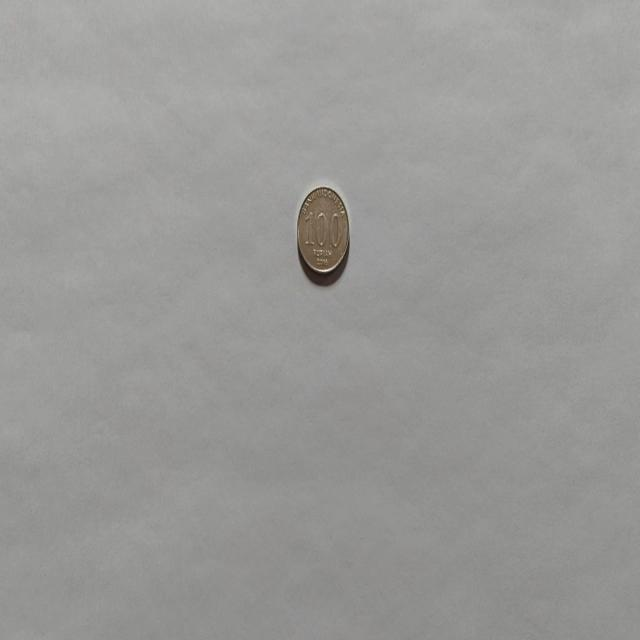seratus rupiah: (296, 184, 350, 276)
